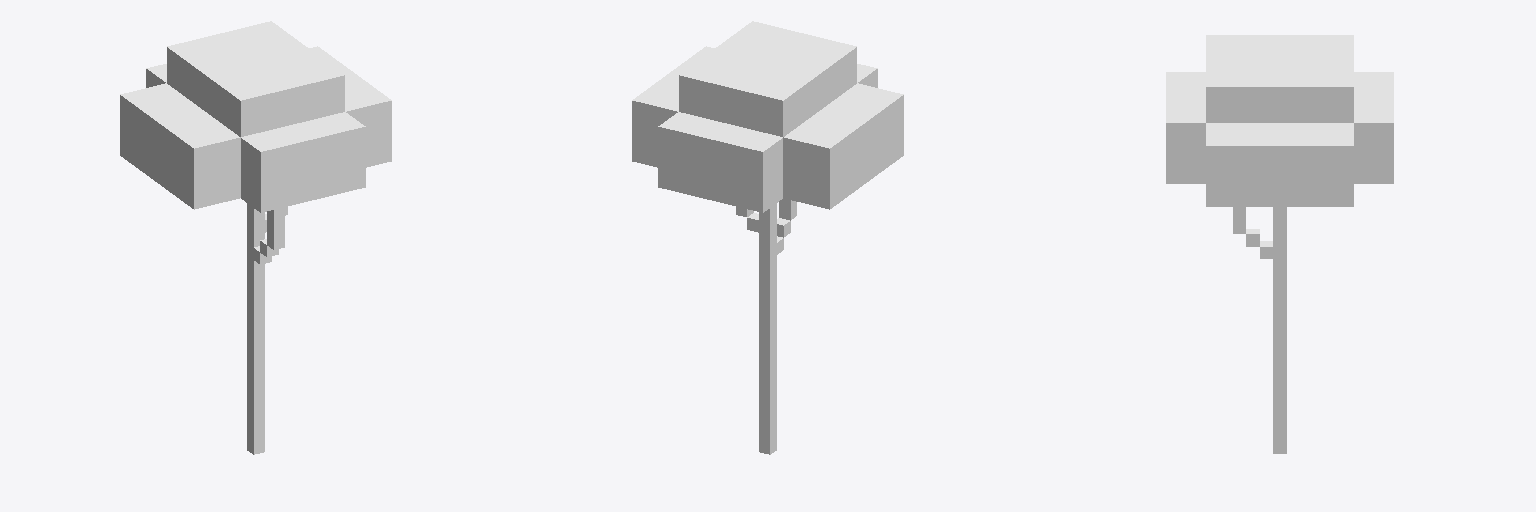
Rendered from Boom3_Normal.obj.
3 views of the same model, side by side, from view 1: azimuth 30°, elevation 25°; view 2: azimuth 150°, elevation 25°; view 3: azimuth 270°, elevation 25° (orthographic).
Visible parts, largest first — view 1: Boom3_Normal; view 2: Boom3_Normal; view 3: Boom3_Normal.
Boxes of the visible parts, x1=… form: Boom3_Normal: x1=120, y1=21, x2=391, y2=454; Boom3_Normal: x1=632, y1=21, x2=903, y2=454; Boom3_Normal: x1=1166, y1=35, x2=1393, y2=453.
Size of the model in its own units: 17 by 32 by 17.